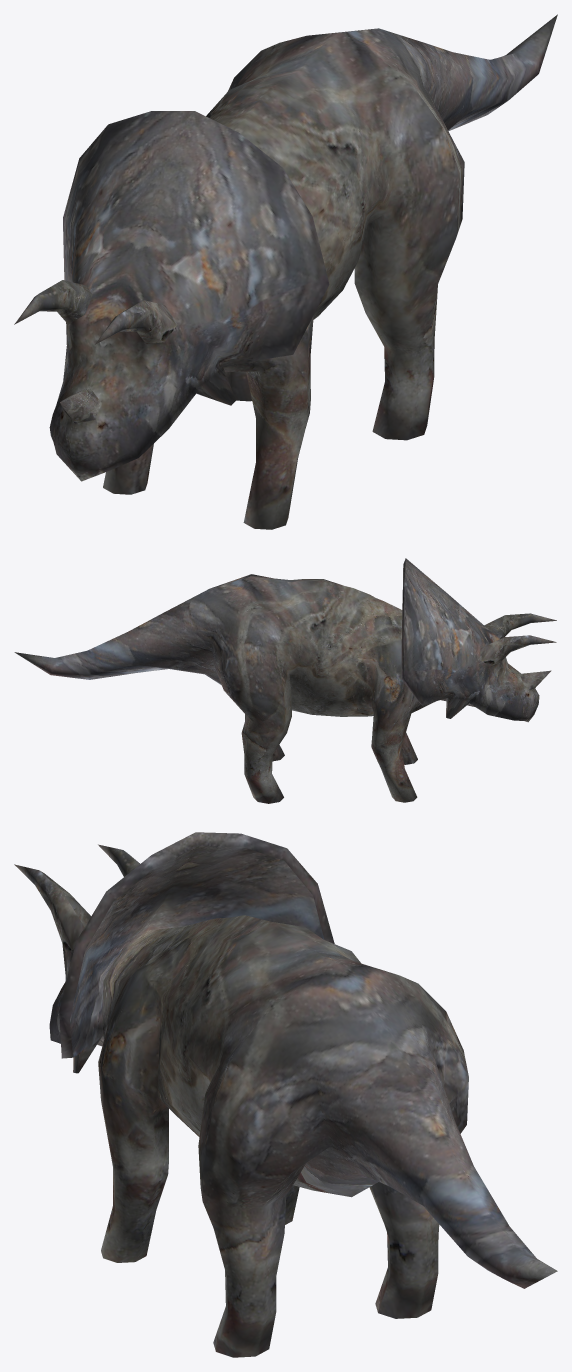
File: triceratops2.obj
The picture shows the model from 3 angles, top to bottom: view 1: azimuth 30°, elevation 25°; view 2: azimuth 150°, elevation 25°; view 3: azimuth 270°, elevation 25°; orthographic projection. The views are drawn at different scales.
Visible parts, largest first — view 1: Triceratops_Triceratops_Triceratops_FinalNormalTriceratop; view 2: Triceratops_Triceratops_Triceratops_FinalNormalTriceratop; view 3: Triceratops_Triceratops_Triceratops_FinalNormalTriceratop.
Boxes of the visible parts, x1,y1,x2,y2 form: Triceratops_Triceratops_Triceratops_FinalNormalTriceratop: (14,14,557,529); Triceratops_Triceratops_Triceratops_FinalNormalTriceratop: (14,558,556,803); Triceratops_Triceratops_Triceratops_FinalNormalTriceratop: (14,832,557,1357).
Size of the model in its own units: 9.77 by 4.77 by 5.84.
1 material, 1 textured.
